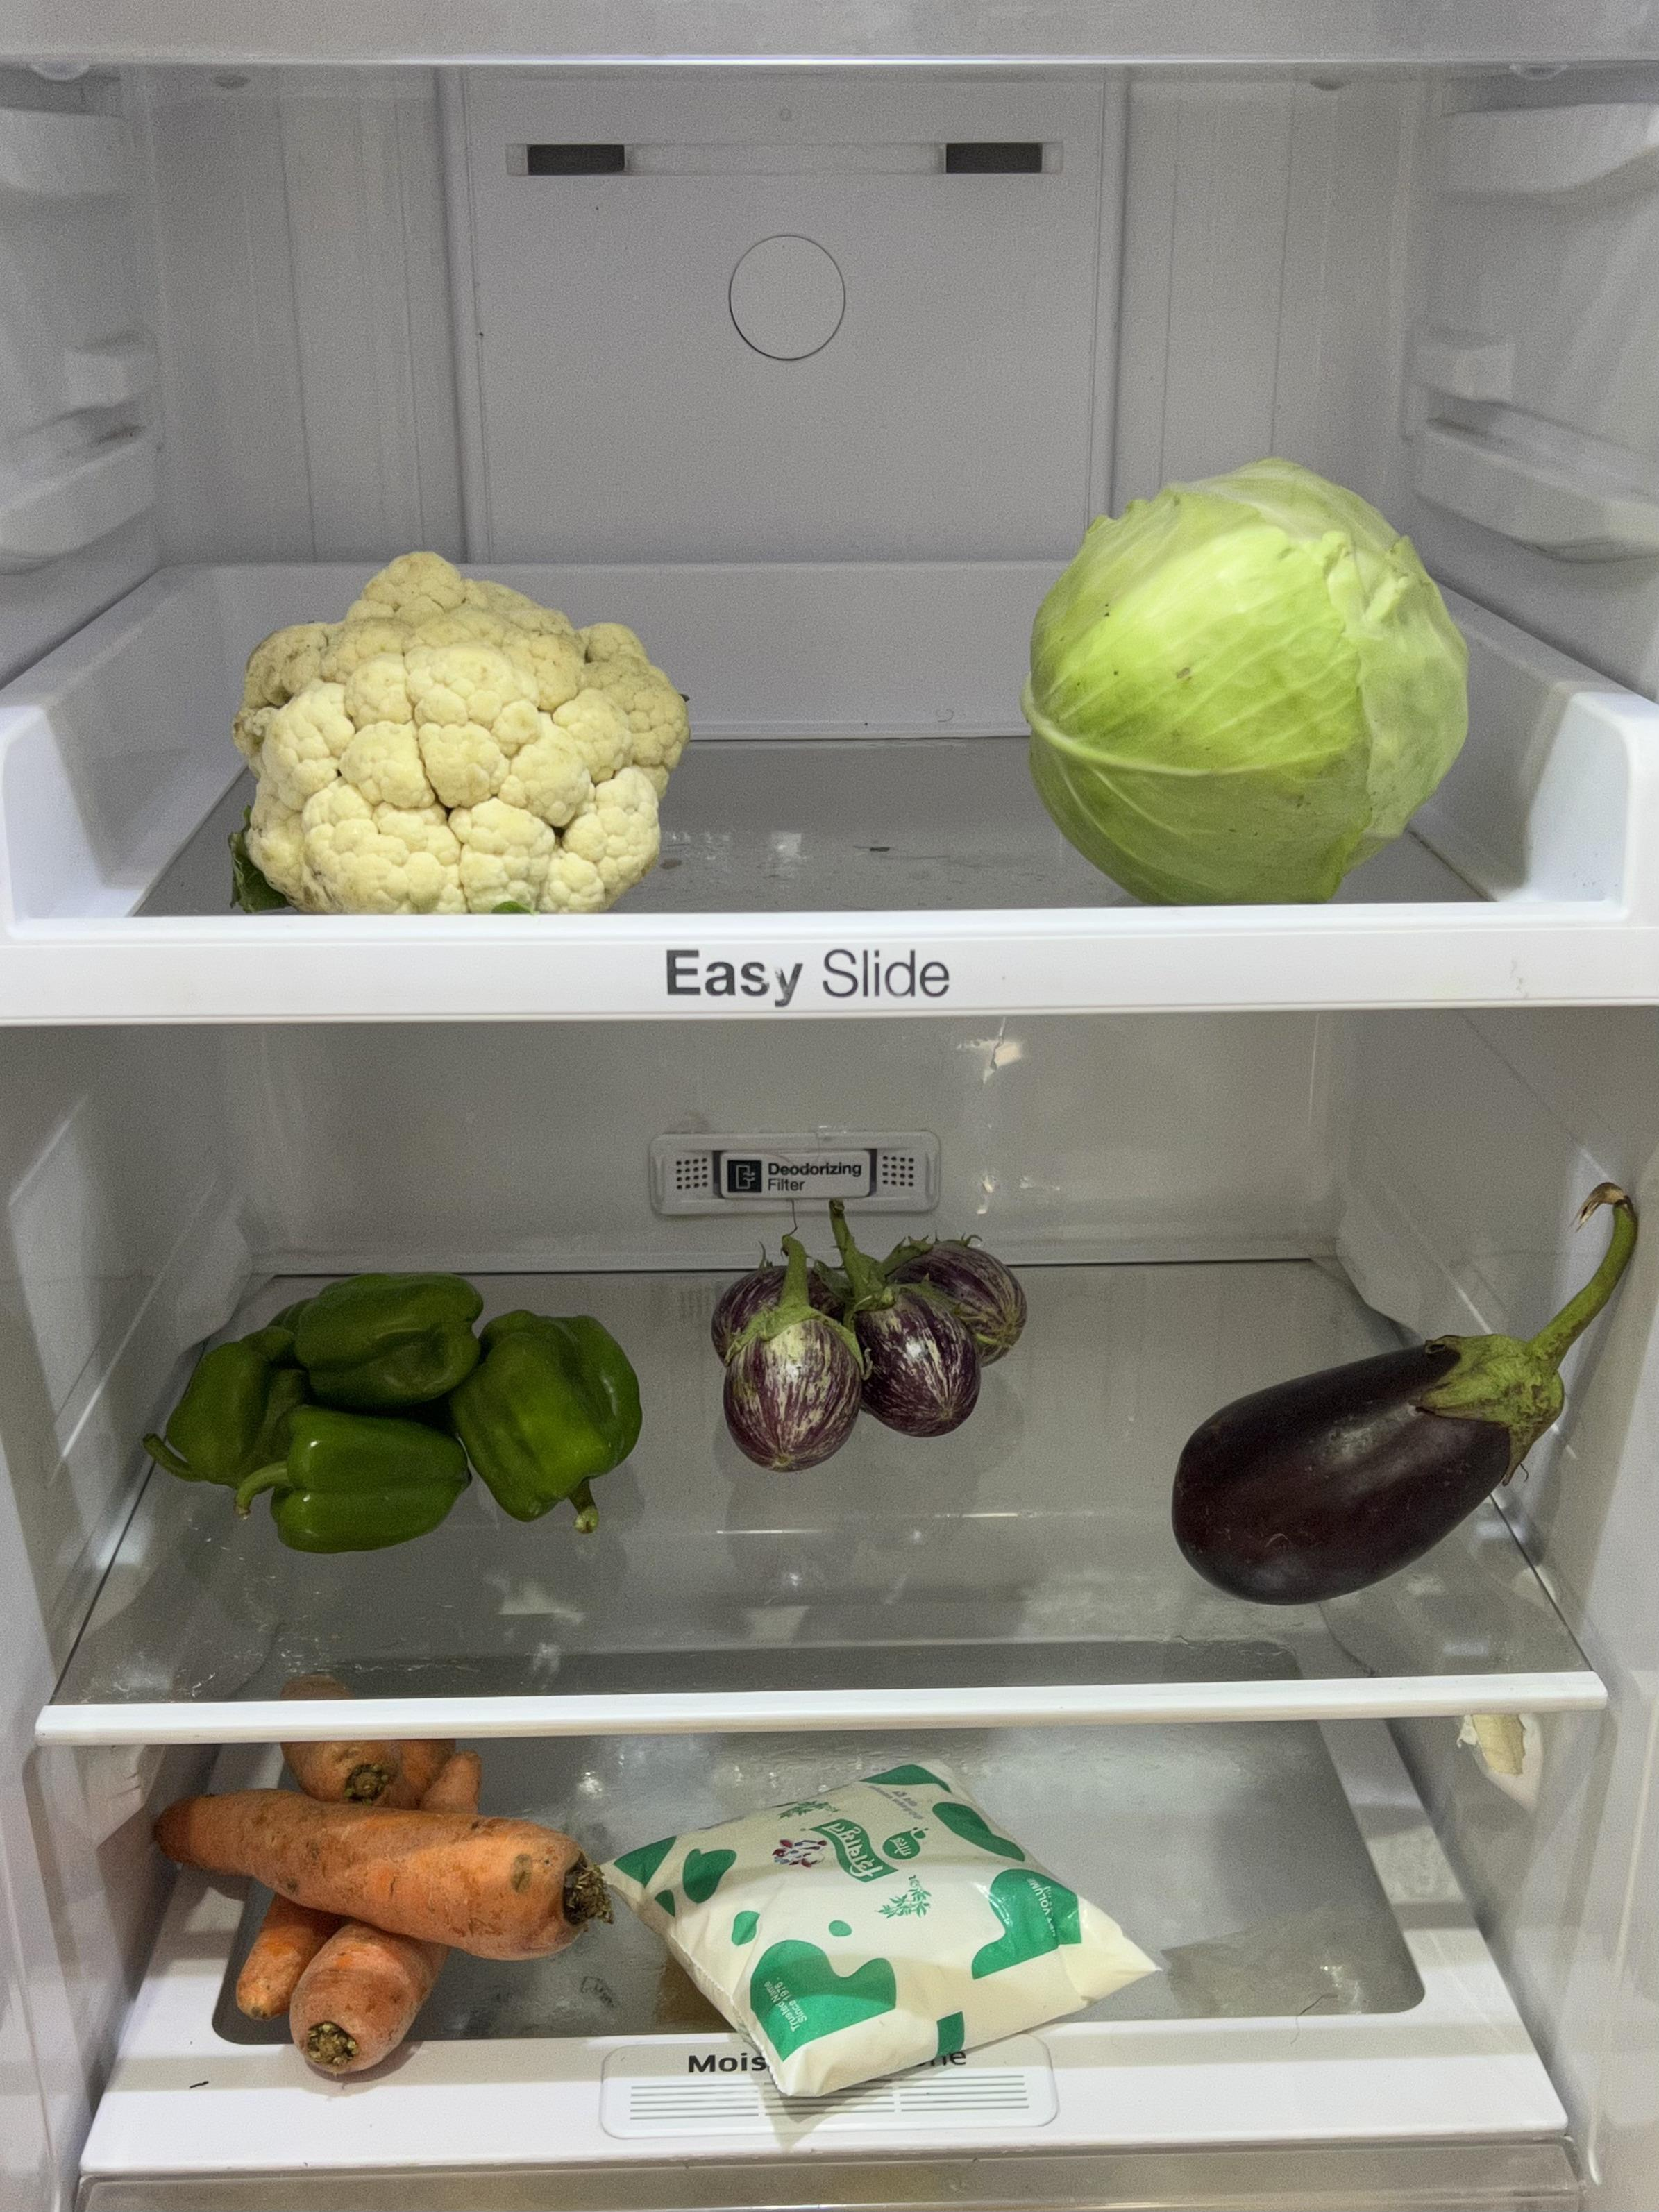bringal: (1169, 1315, 1567, 1611), (704, 1204, 1028, 1475)
cabbage: (1025, 453, 1480, 906)
capsicum: (153, 1264, 653, 1557)
carrots: (146, 1731, 603, 2081)
cauliflower: (235, 545, 688, 920)
milk: (596, 1766, 1168, 2090)
